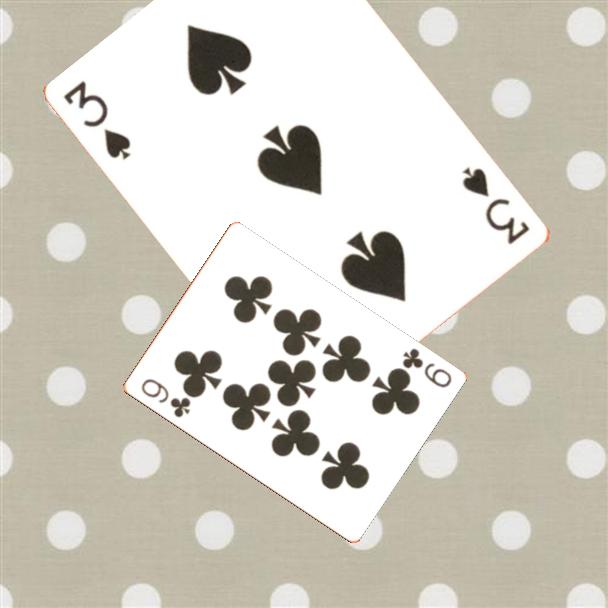c09: (137, 375, 193, 421), (398, 345, 454, 391)
s03: (60, 77, 135, 163), (459, 163, 533, 248)
